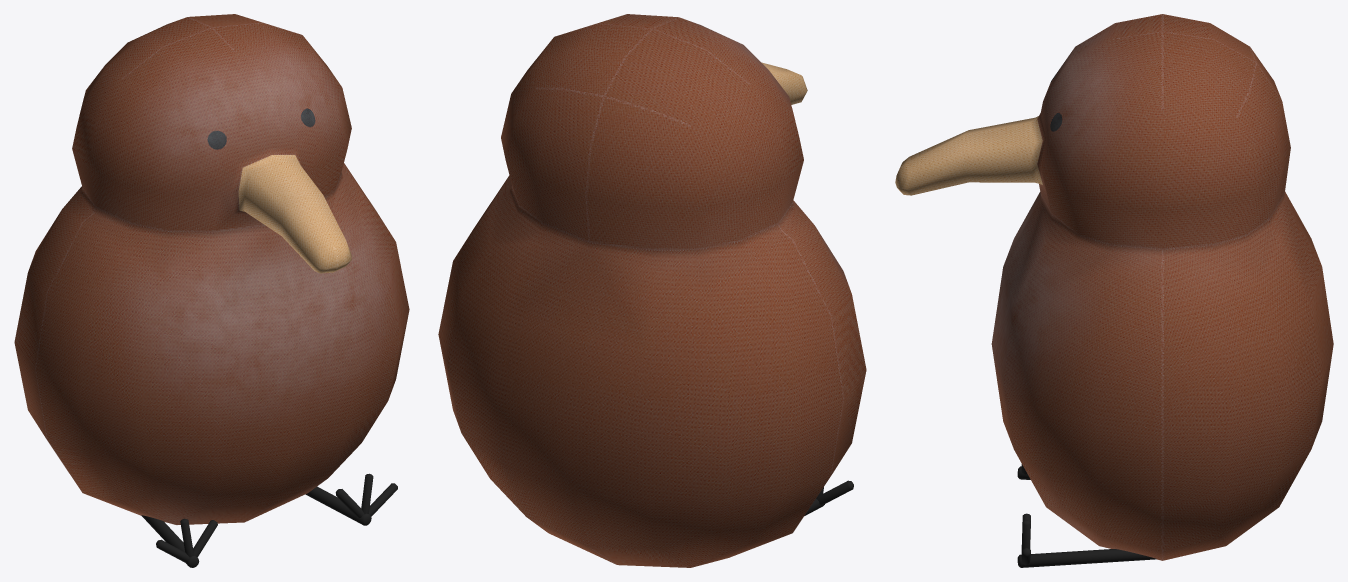
The model's file is Plushie_Kiwi.FBX.
3 views of the same model, side by side, from view 1: azimuth 30°, elevation 25°; view 2: azimuth 150°, elevation 25°; view 3: azimuth 270°, elevation 25° (orthographic). The views are drawn at different scales.
Visible parts, largest first — view 1: Plushie_Kiwi; view 2: Plushie_Kiwi; view 3: Plushie_Kiwi.
Boxes of the visible parts, box(x1,y1,x2,y2) form: Plushie_Kiwi: box(14, 14, 409, 567); Plushie_Kiwi: box(438, 14, 866, 567); Plushie_Kiwi: box(895, 14, 1333, 567).
Bounding box in the file's own units: 15.33 × 20.03 × 15.72.
